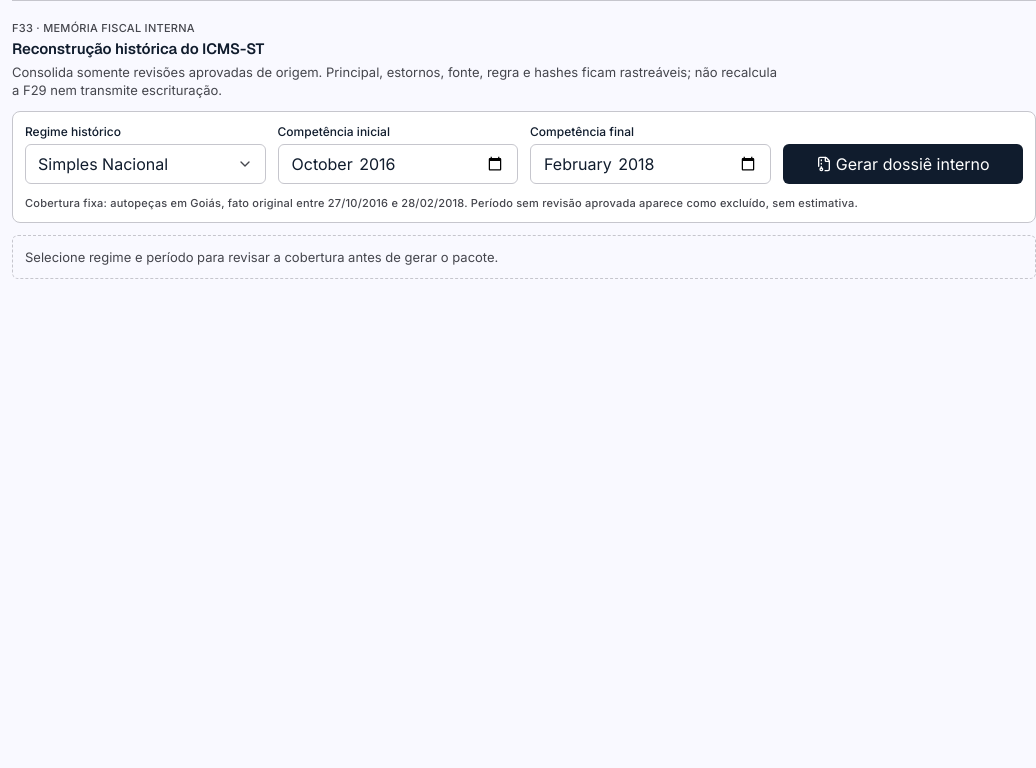
Test: painel de reconstrução histórica F33 › gera dossiê a partir de revisão aprovada e explica o bloqueio de acréscimos legais
This screenshot has width=1036, height=768.
Click the button "Gerar dossiê interno": (903, 164) [782,144,1023,184]
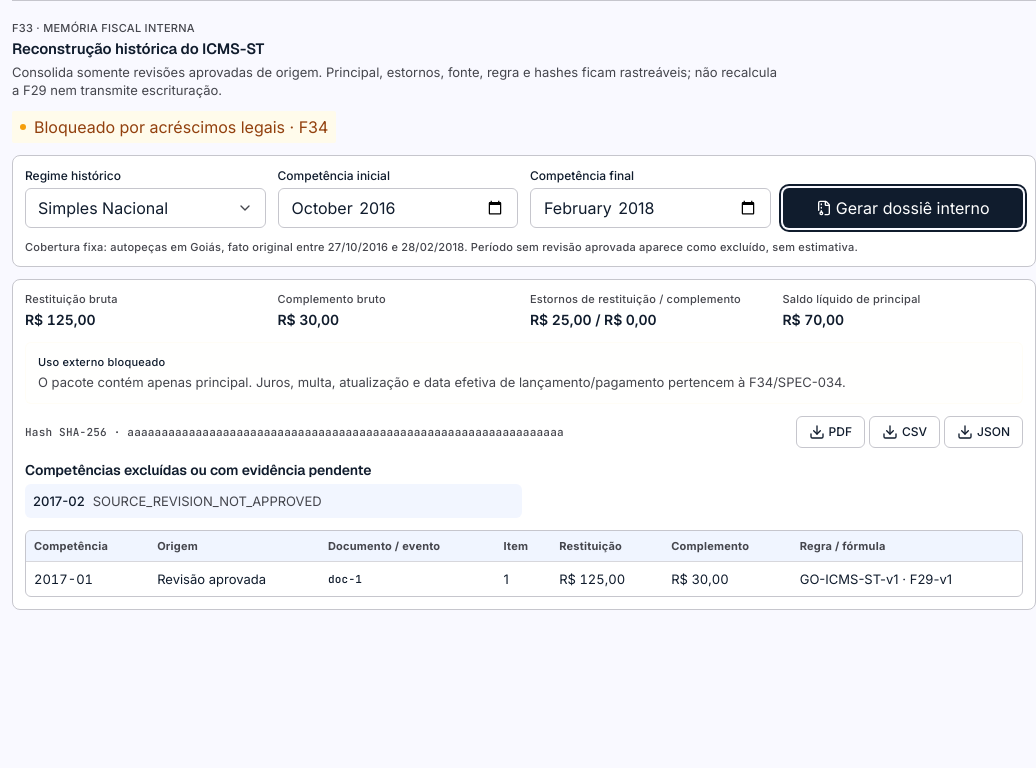
Result: the text "Uso externo bloqueado" is shown at [38,355,165,369]
Result: the text "2017-02" is shown at [33,493,85,509]
Result: the text "GO-ICMS-ST-v1 · F29-v1" is shown at [792,562,1022,596]
